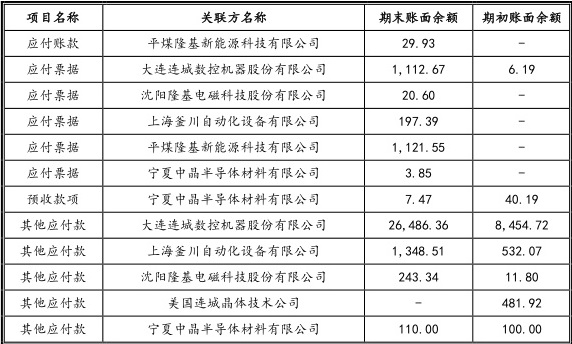column: (141, 6, 325, 344), (481, 1, 561, 344), (379, 4, 458, 344), (20, 1, 85, 343)
row: (1, 63, 572, 76), (3, 271, 572, 284), (1, 194, 572, 206), (2, 167, 572, 179), (2, 323, 572, 335), (3, 38, 572, 50), (3, 141, 572, 153), (4, 12, 572, 24), (4, 220, 572, 232), (4, 245, 572, 257), (1, 90, 572, 101), (2, 298, 572, 308), (1, 116, 569, 126)
